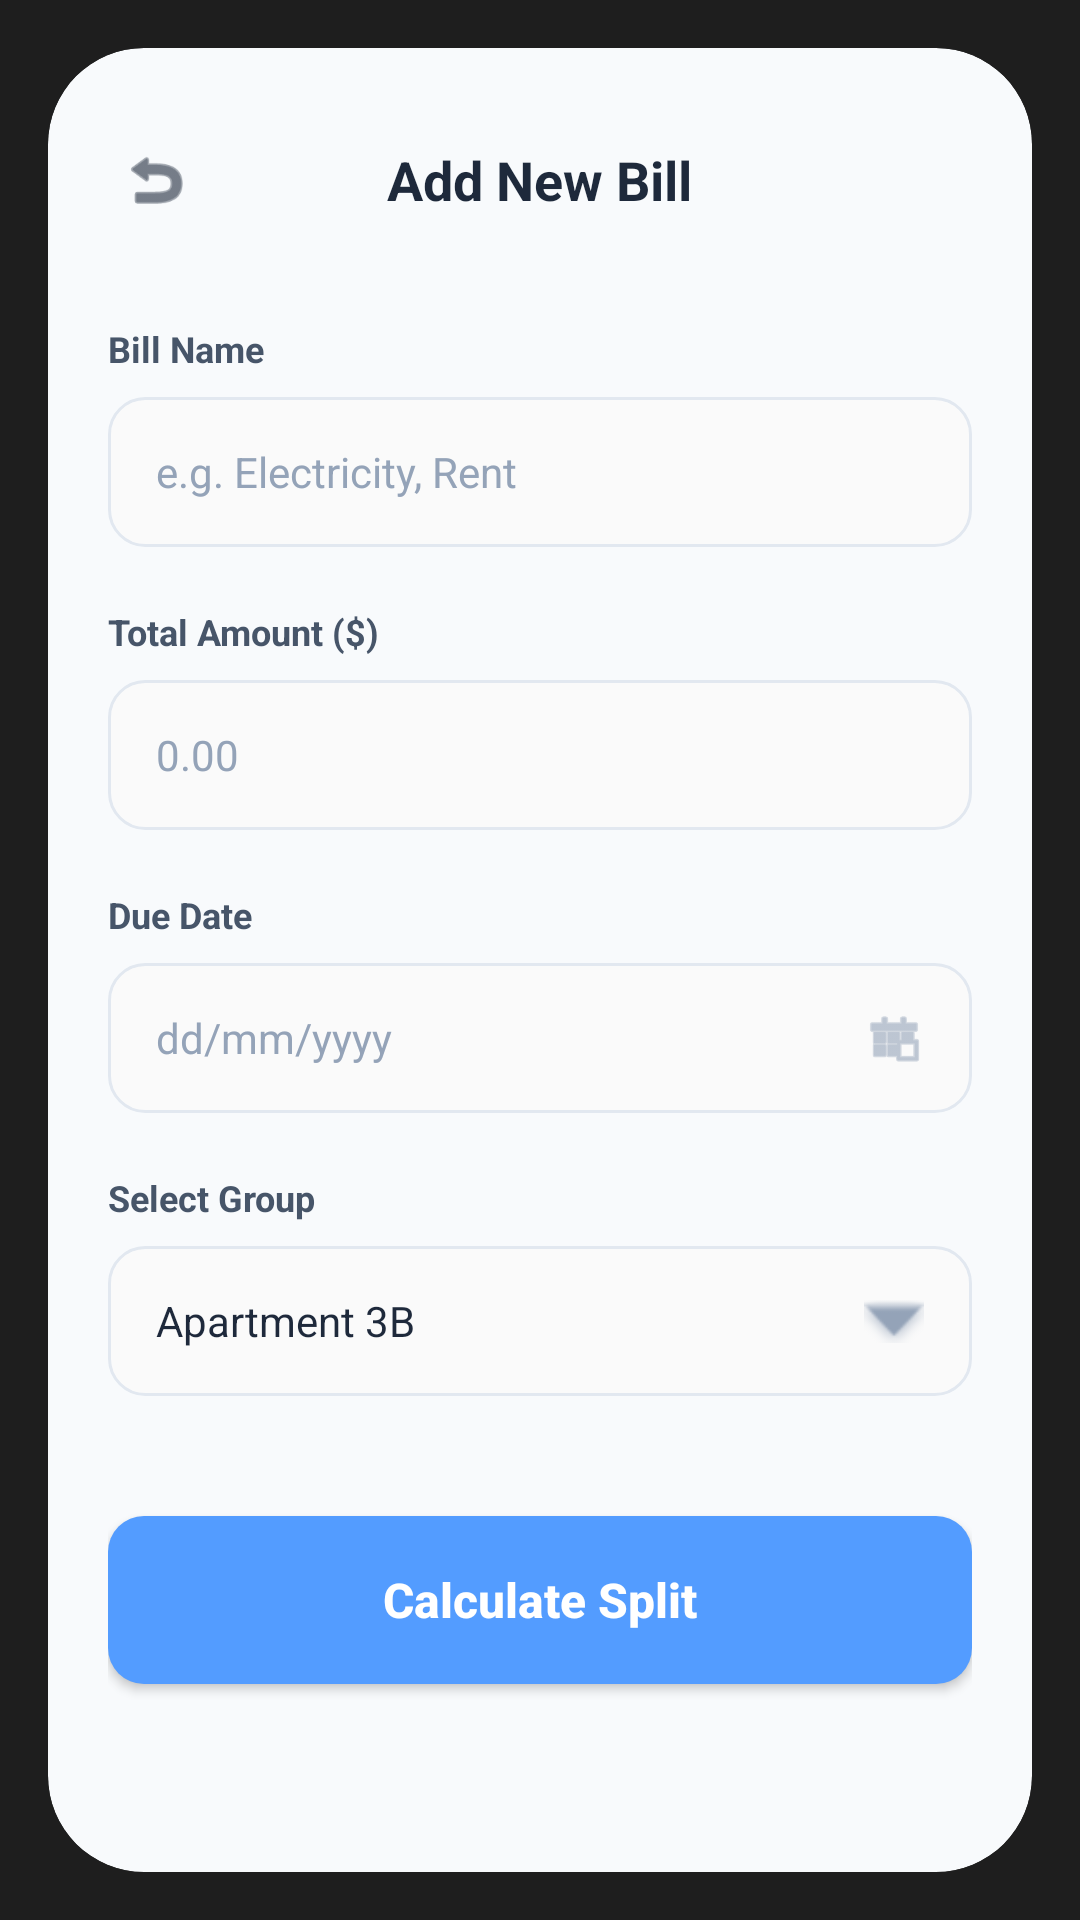

Screen size 1080w x 1920h. Icon name, then its center in pixels as (x,y):
arrow down float: (894,1320)
revert: (157,180)
today: (894,1038)
